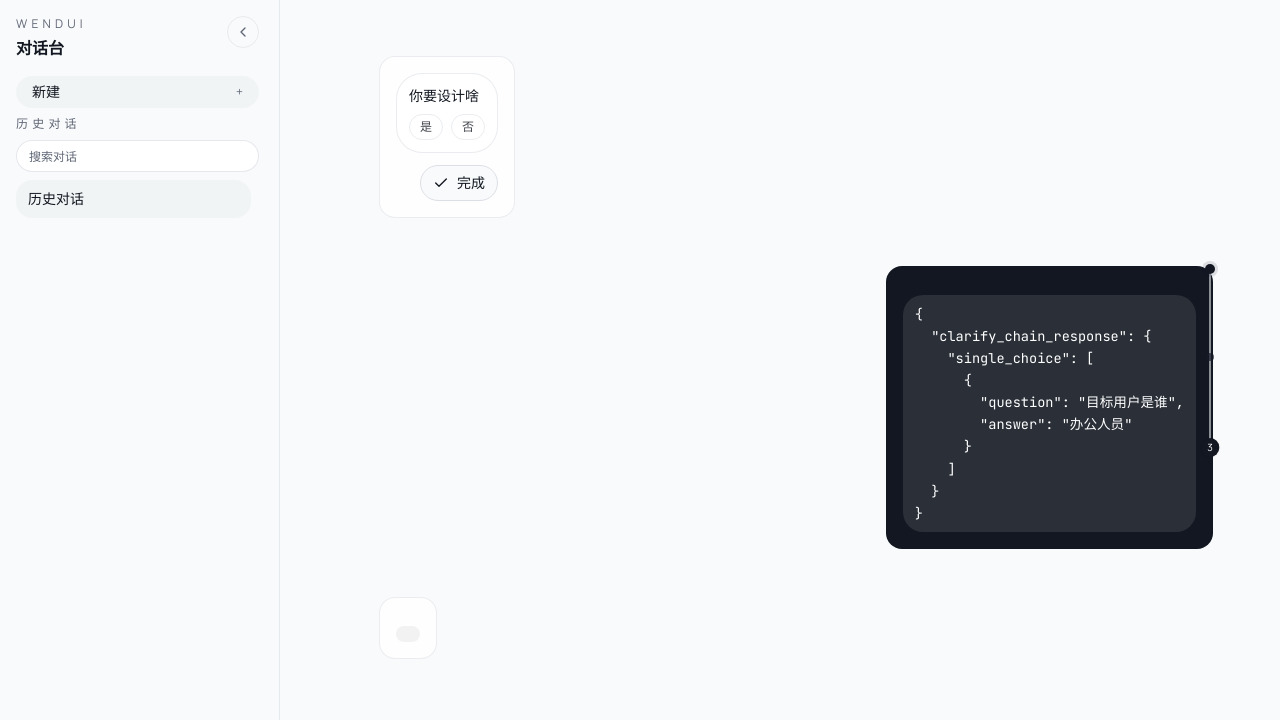
Test: skips special prefixes in message previews
Step 1. Hover over the navigation bar with test id "message-navigator" → [1210, 361], box top-left (1201, 264), bottom-right (1219, 457)
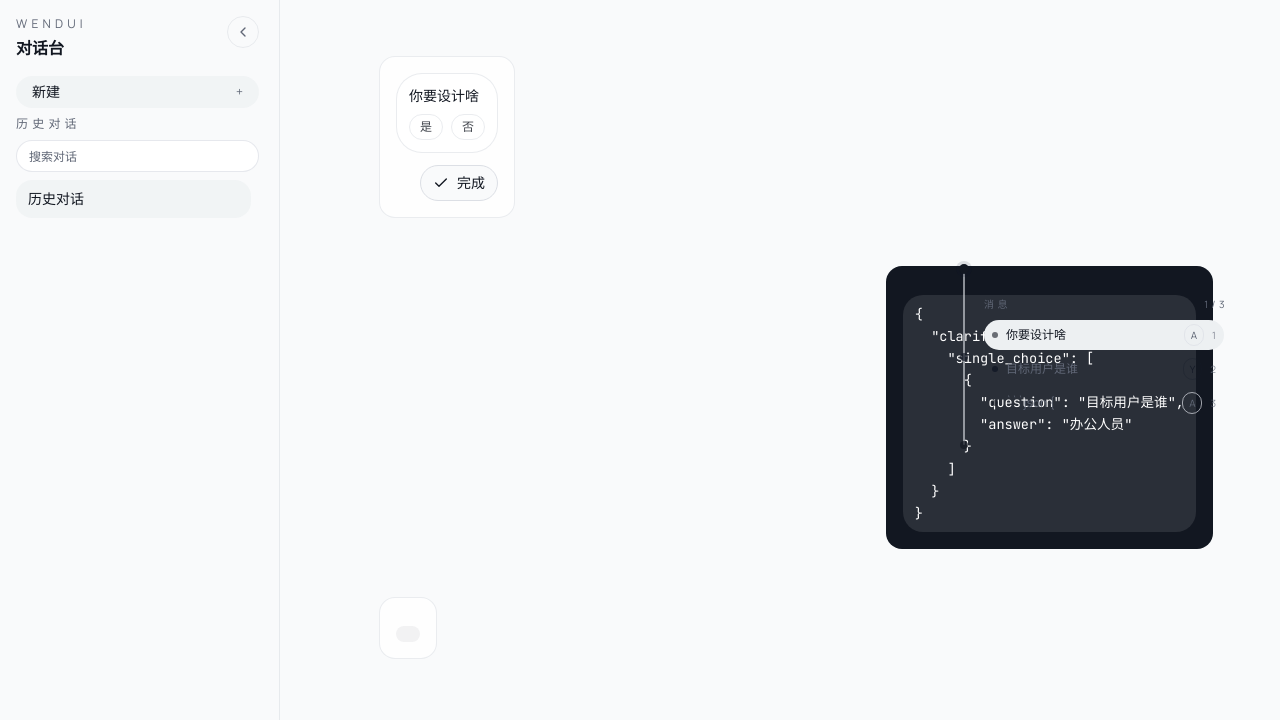
expect the text "你要设计啥" below "消息" is shown: met, box top-left (1006, 326), bottom-right (1066, 343)
expect the text "目标用户是谁" is shown: met, box top-left (1006, 360), bottom-right (1078, 377)
expect the text "```json {" is shown: met, box top-left (1006, 394), bottom-right (1055, 411)
